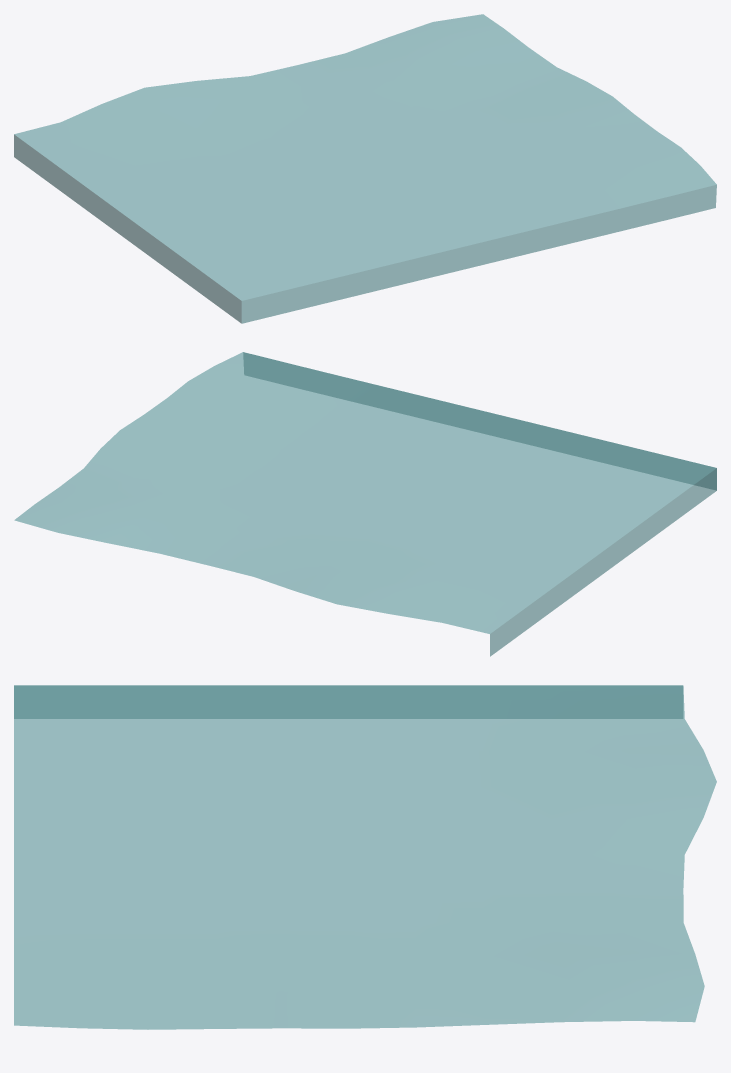
File: Water.fbx
3 renders of one model, top to bottom at view 1: azimuth 30°, elevation 25°; view 2: azimuth 150°, elevation 25°; view 3: azimuth 270°, elevation 25°, orthographic. The views are drawn at different scales.
Parts seen in each view (by area): view 1: Water1; view 2: Water1; view 3: Water1.
Boxes of the visible parts, left/top/right/bottom form: Water1: left=14, top=14, right=716, bottom=323; Water1: left=14, top=352, right=716, bottom=656; Water1: left=14, top=685, right=716, bottom=1029.
Bounding box in the file's own units: 11.67 × 0.6242 × 9.97.
